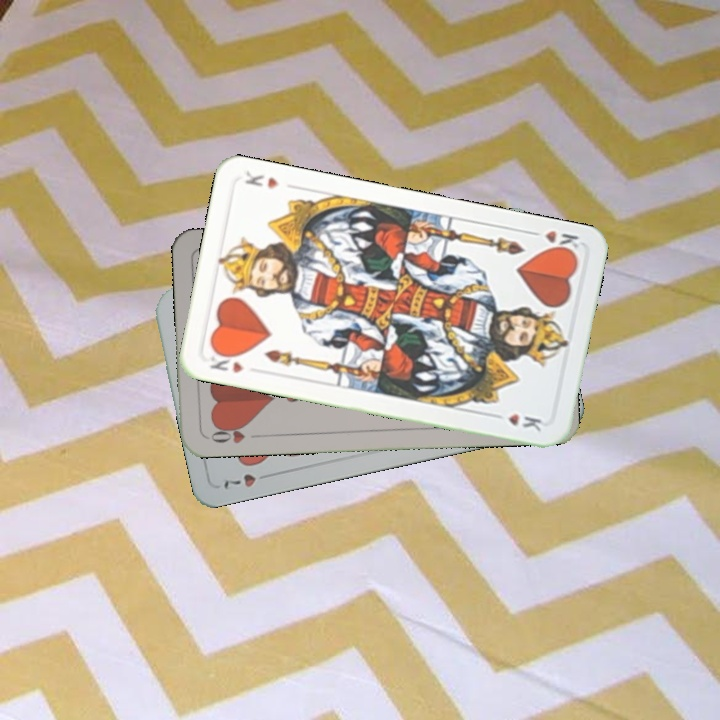H7: (219, 469, 275, 493)
HK: (524, 226, 583, 258), (203, 347, 246, 376)
HO: (207, 420, 251, 446)
